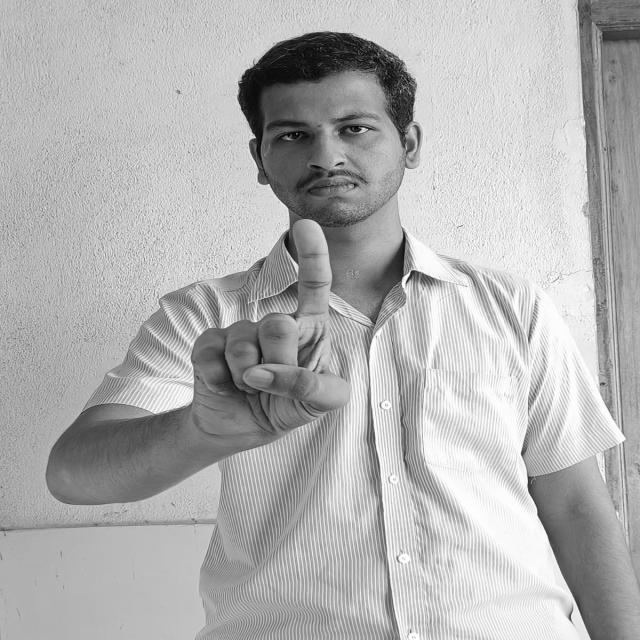Question: (193, 216, 357, 440)
